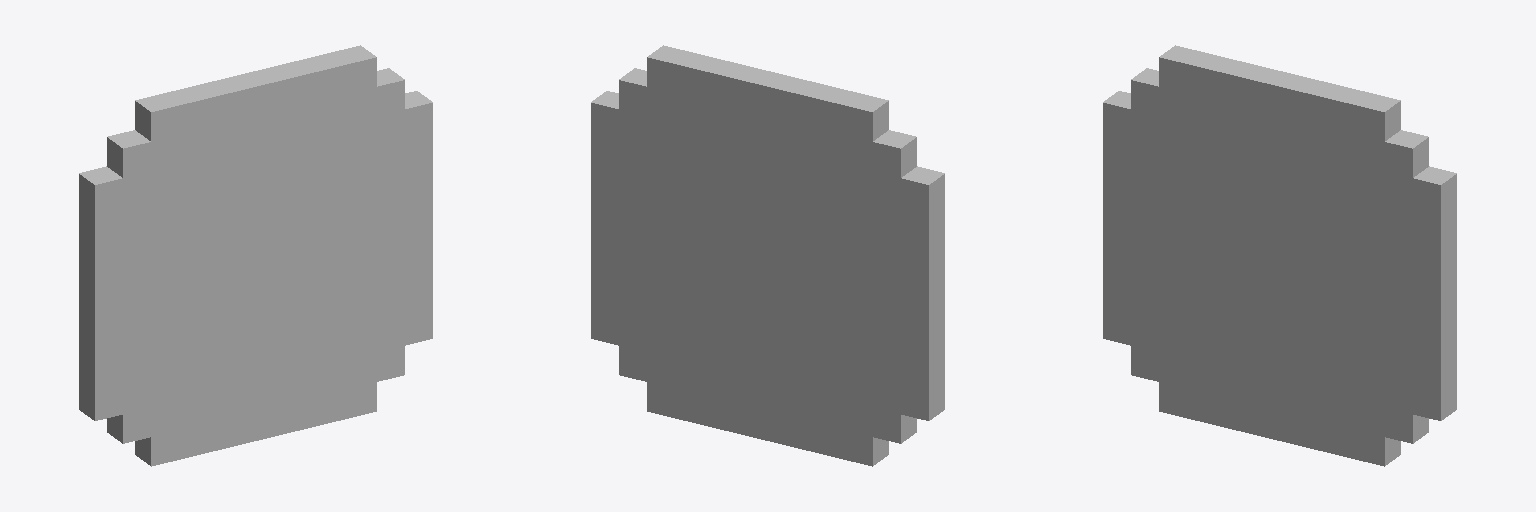
Rendered from Coin.obj.
3 views of the same model, side by side, from view 1: azimuth 30°, elevation 25°; view 2: azimuth 150°, elevation 25°; view 3: azimuth 330°, elevation 25° (orthographic).
Parts seen in each view (by area): view 1: object 1; view 2: object 1; view 3: object 1.
Boxes of the visible parts, <box> form: object 1: <box>79,45,432,466</box>; object 1: <box>591,45,944,466</box>; object 1: <box>1103,45,1456,466</box>.
Size of the model in its own units: 1.2 by 1.2 by 0.1.